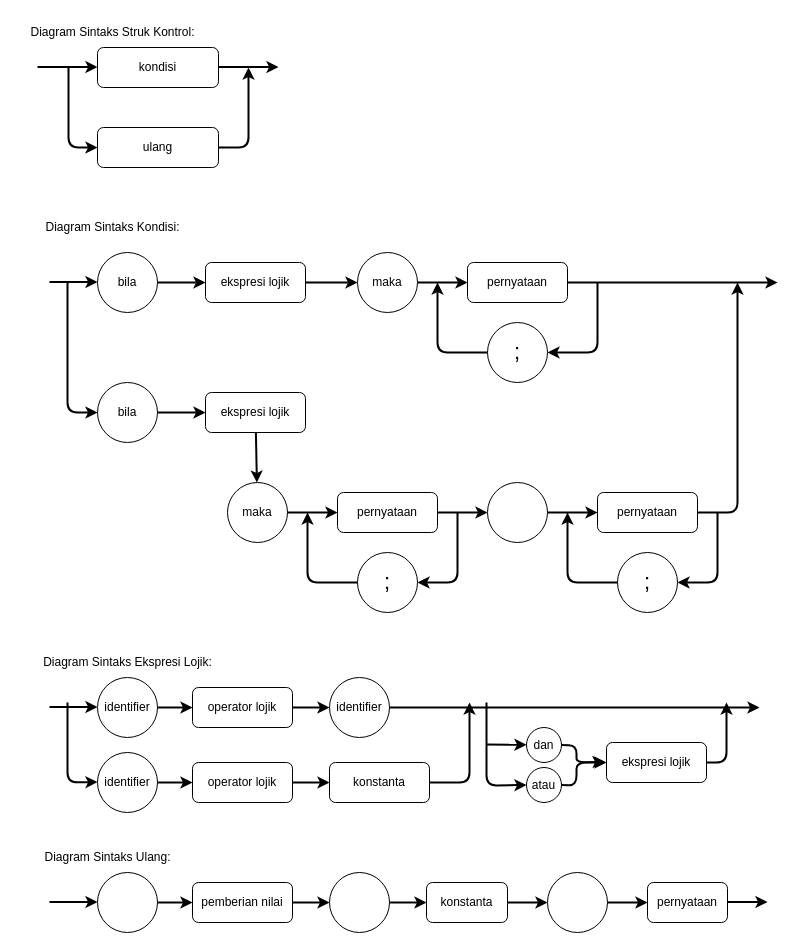
Some shapes in this 803 by 950 pixel diagram are drawn without their labels. Here are the shapes that lost their labels. From the top down, the centre of each, then its label:
the point at 517,512: beda
the point at 127,902: dari
the point at 359,902: sampai
the point at 577,902: lakukan
